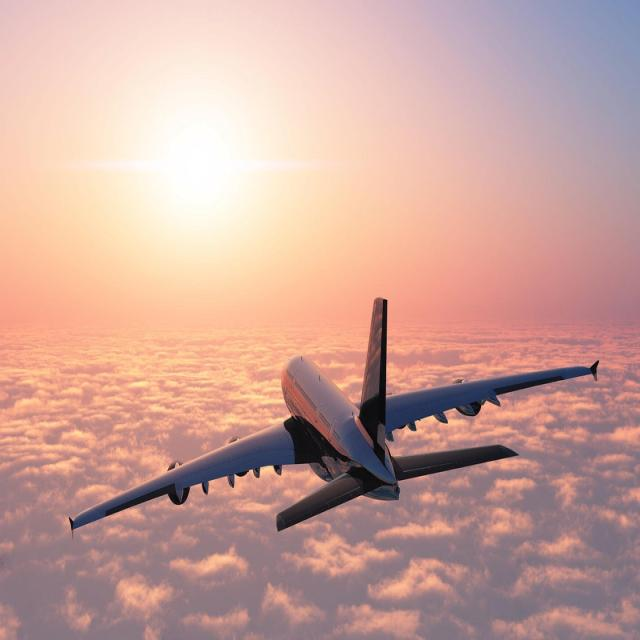plain: (52, 284, 612, 540)
